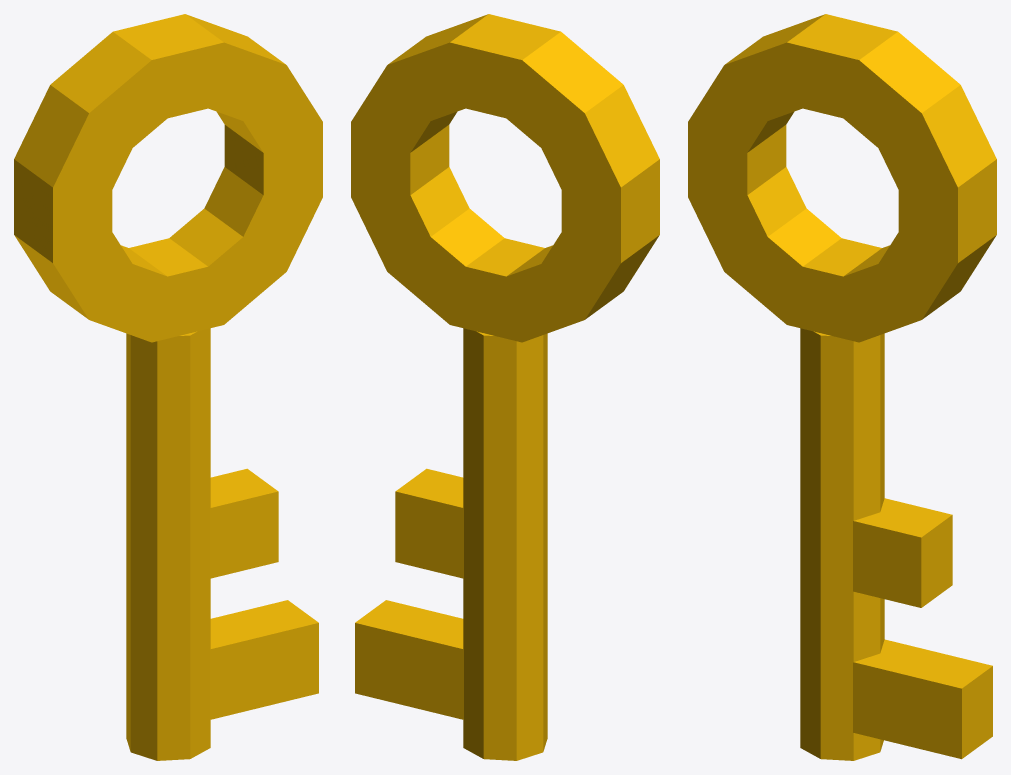
The model's file is Key_01.fbx.
3 views of the same model, side by side, from view 1: azimuth 30°, elevation 25°; view 2: azimuth 150°, elevation 25°; view 3: azimuth 330°, elevation 25° (orthographic).
Visible parts, largest first — view 1: Key_01; view 2: Key_01; view 3: Key_01.
Part boxes in pixels (x1=…): Key_01: x1=14, y1=14, x2=322, y2=760; Key_01: x1=351, y1=14, x2=659, y2=760; Key_01: x1=688, y1=14, x2=996, y2=760.
Bounding box in the file's own units: 20 × 50 × 5.6.
Materials: 1 (1 with a texture image).
